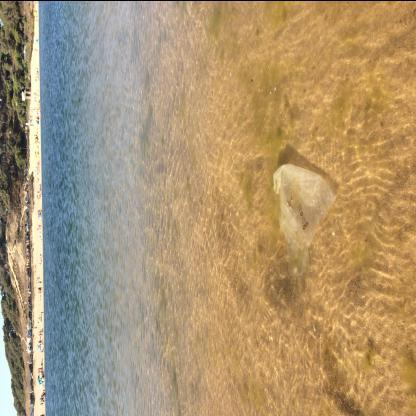plastik: (274, 163, 338, 277)
